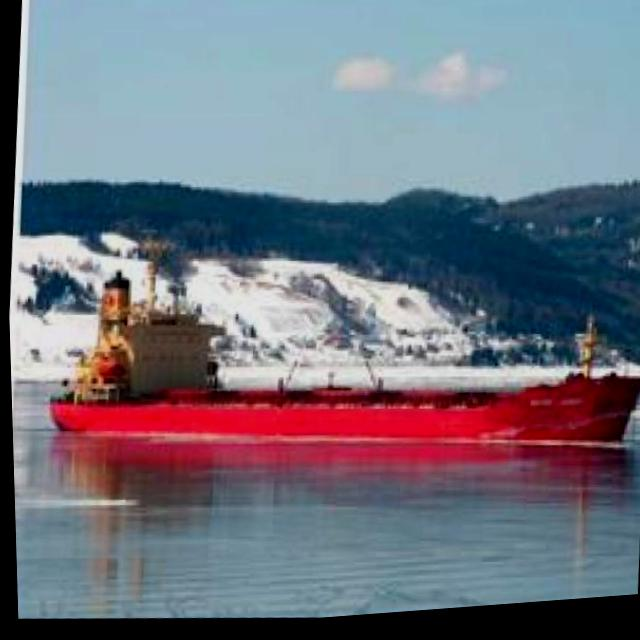ship2: (44, 272, 640, 460)
